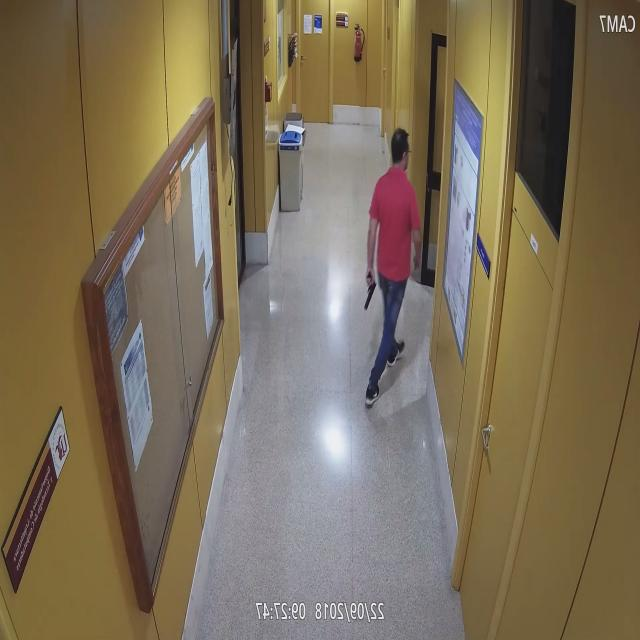pistol: (364, 270, 376, 310)
